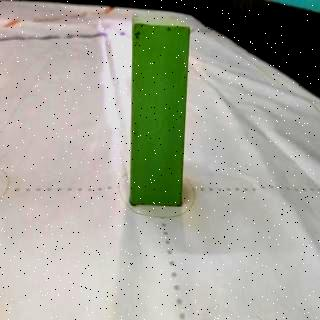greenbox: (132, 10, 192, 208)
